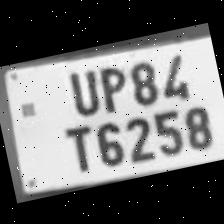2: (118, 110, 156, 166)
4: (150, 47, 193, 102)
5: (146, 103, 186, 157)
6: (86, 116, 127, 170)
8: (176, 98, 217, 152), (121, 54, 161, 107)
P: (90, 58, 132, 113)
T: (56, 116, 100, 176)
U: (59, 62, 102, 119)
